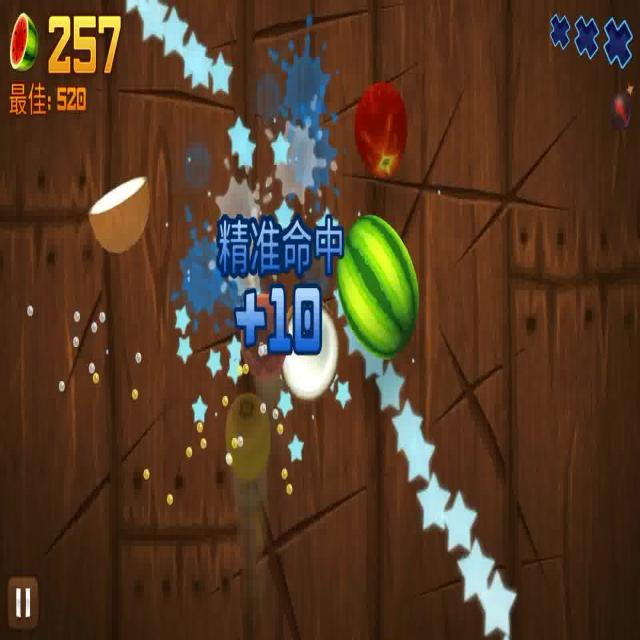fruit: (337, 203, 423, 359), (352, 73, 407, 186), (79, 174, 153, 256), (286, 285, 334, 402), (228, 380, 276, 476), (237, 291, 289, 375)
